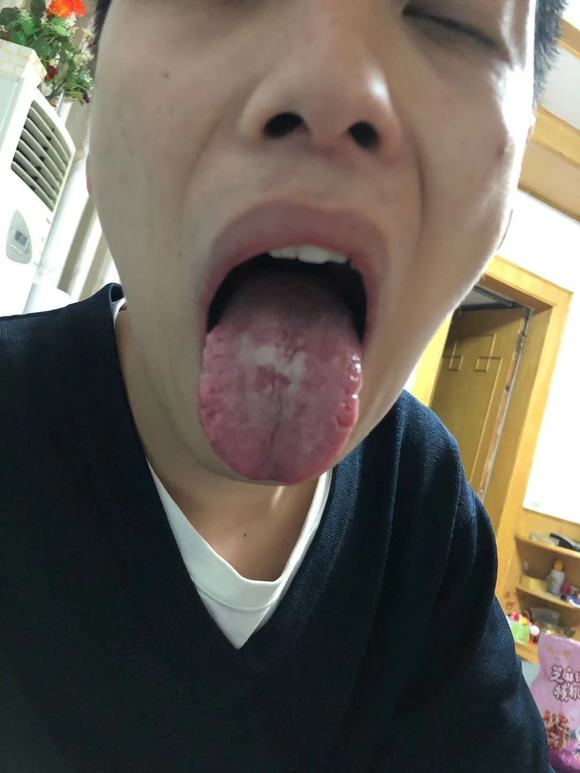baitaishe: (199, 270, 362, 484)
botaishe: (229, 310, 315, 418)
hongshe: (199, 270, 362, 484)
liewenshe: (202, 330, 224, 433), (334, 382, 357, 432)
